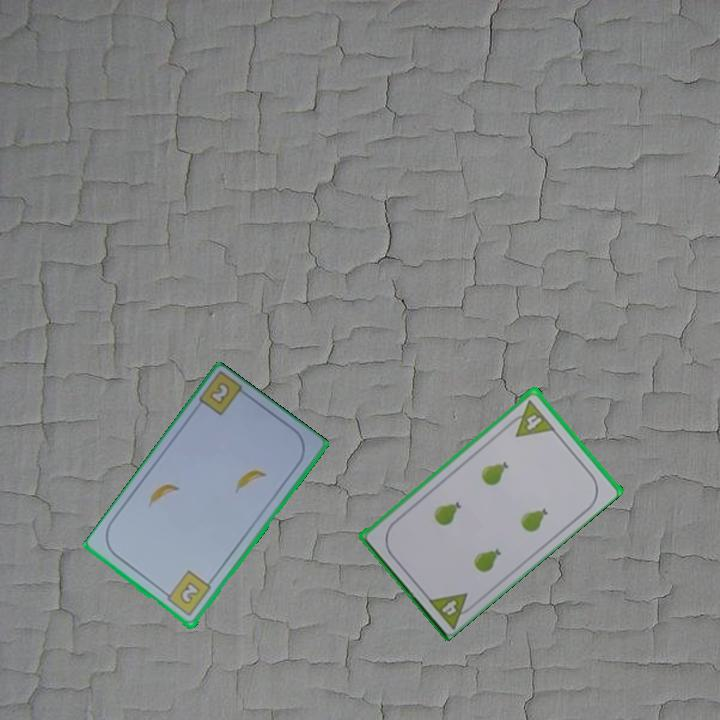2b: (160, 567, 214, 619), (208, 381, 231, 405)
4p: (514, 408, 555, 440), (438, 595, 460, 618)
